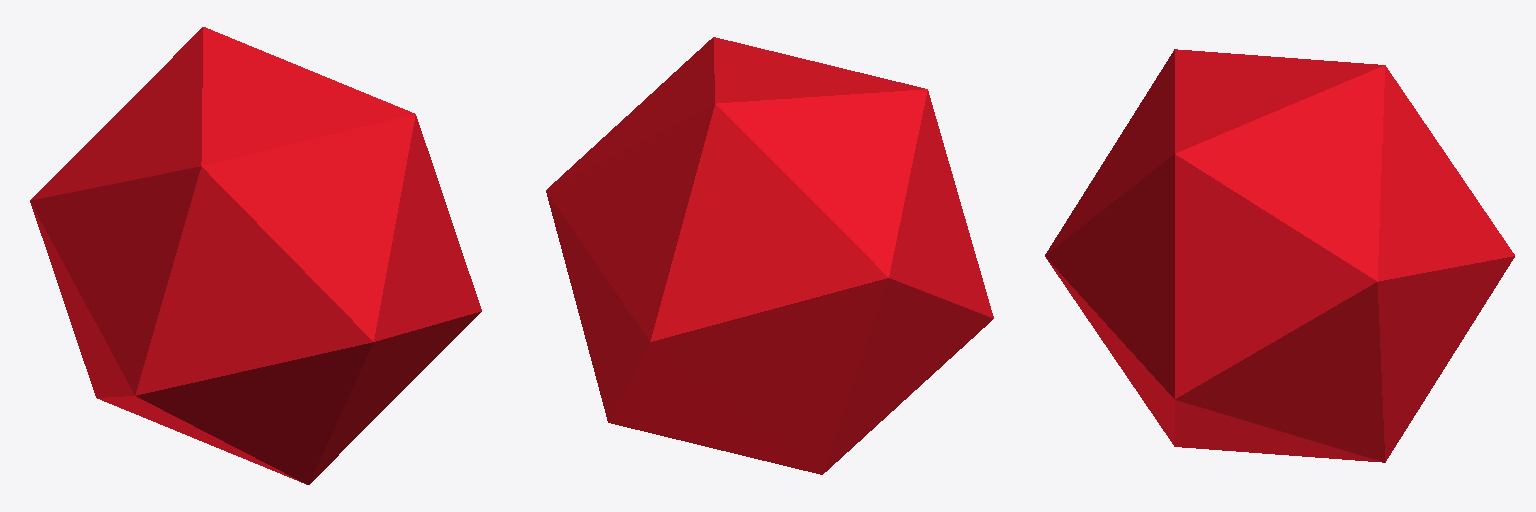
File: icosahedron.obj
3 renders of one model, left to right at view 1: azimuth 30°, elevation 25°; view 2: azimuth 150°, elevation 25°; view 3: azimuth 270°, elevation 25°, orthographic.
Parts seen in each view (by area): view 1: obj_0; view 2: obj_0; view 3: obj_0.
Boxes of the visible parts, x1,y1,x2,y2 form: obj_0: [30, 27, 481, 484]; obj_0: [546, 37, 993, 474]; obj_0: [1045, 49, 1514, 462].
Size of the model in its own units: 0.1618 by 0.1701 by 0.1902.